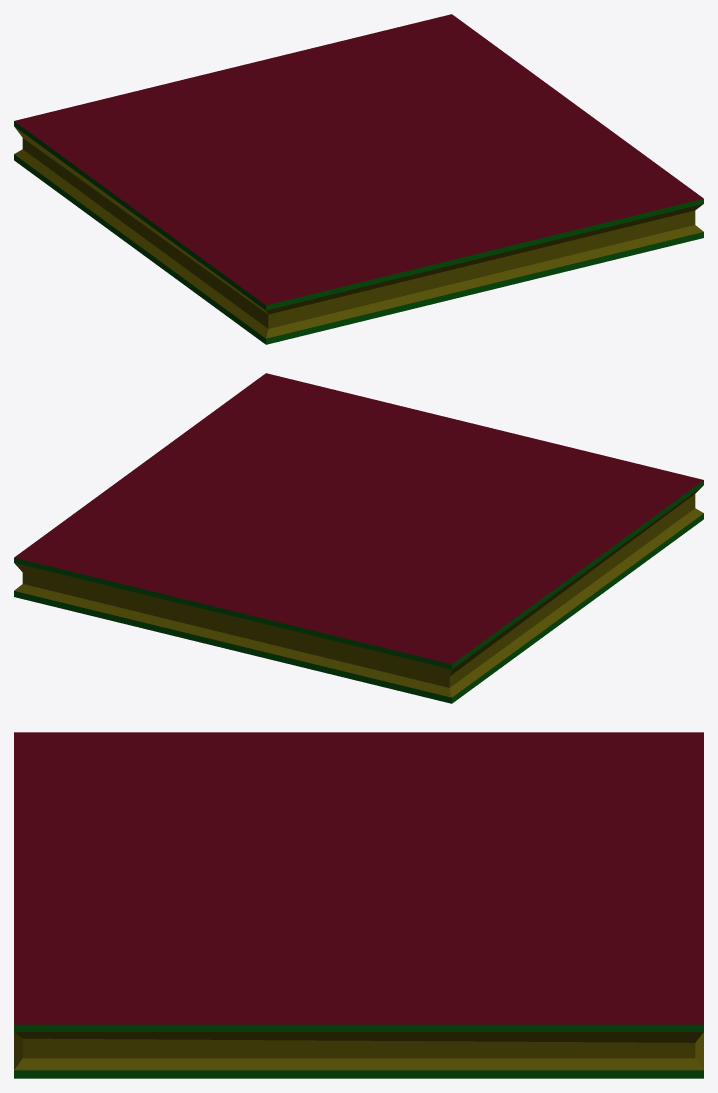
The model's file is staticMesh_module_GroundRoof.fbx.
3 renders of one model, top to bottom at view 1: azimuth 30°, elevation 25°; view 2: azimuth 150°, elevation 25°; view 3: azimuth 270°, elevation 25°, orthographic. The views are drawn at different scales.
Visible parts, largest first — view 1: pCube5; view 2: pCube5; view 3: pCube5.
Boxes of the visible parts, <box> form: pCube5: <box>14,14,703,344</box>; pCube5: <box>14,373,703,703</box>; pCube5: <box>14,732,703,1078</box>.
Bounding box in the file's own units: 200 × 17.19 × 199.
